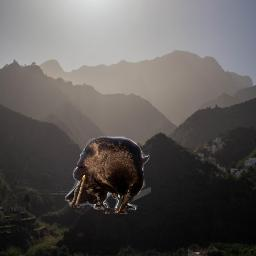Crow: (64, 136, 151, 214)
